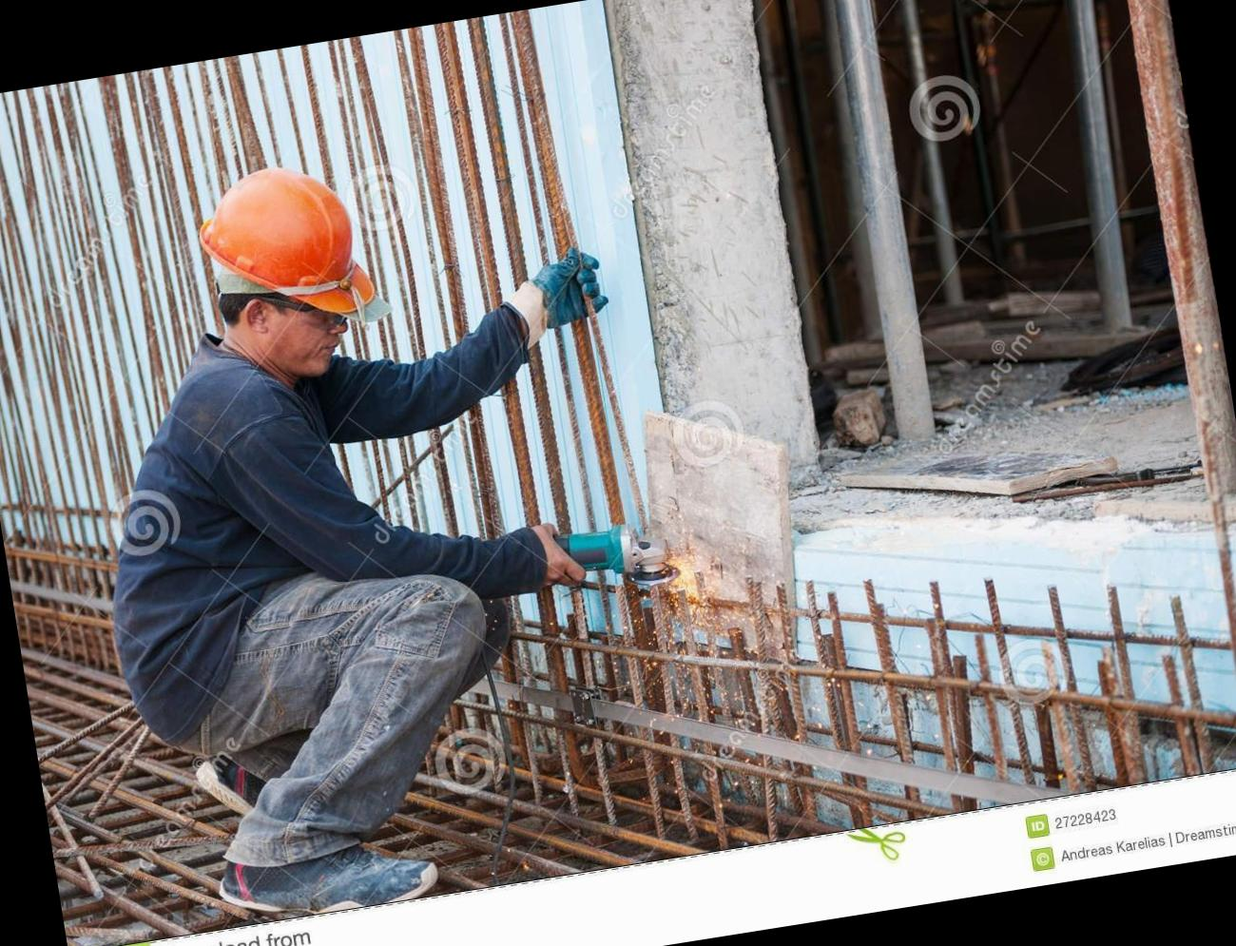helmet: (193, 153, 361, 325)
no_vest: (77, 333, 419, 746)
person: (39, 135, 527, 936)
